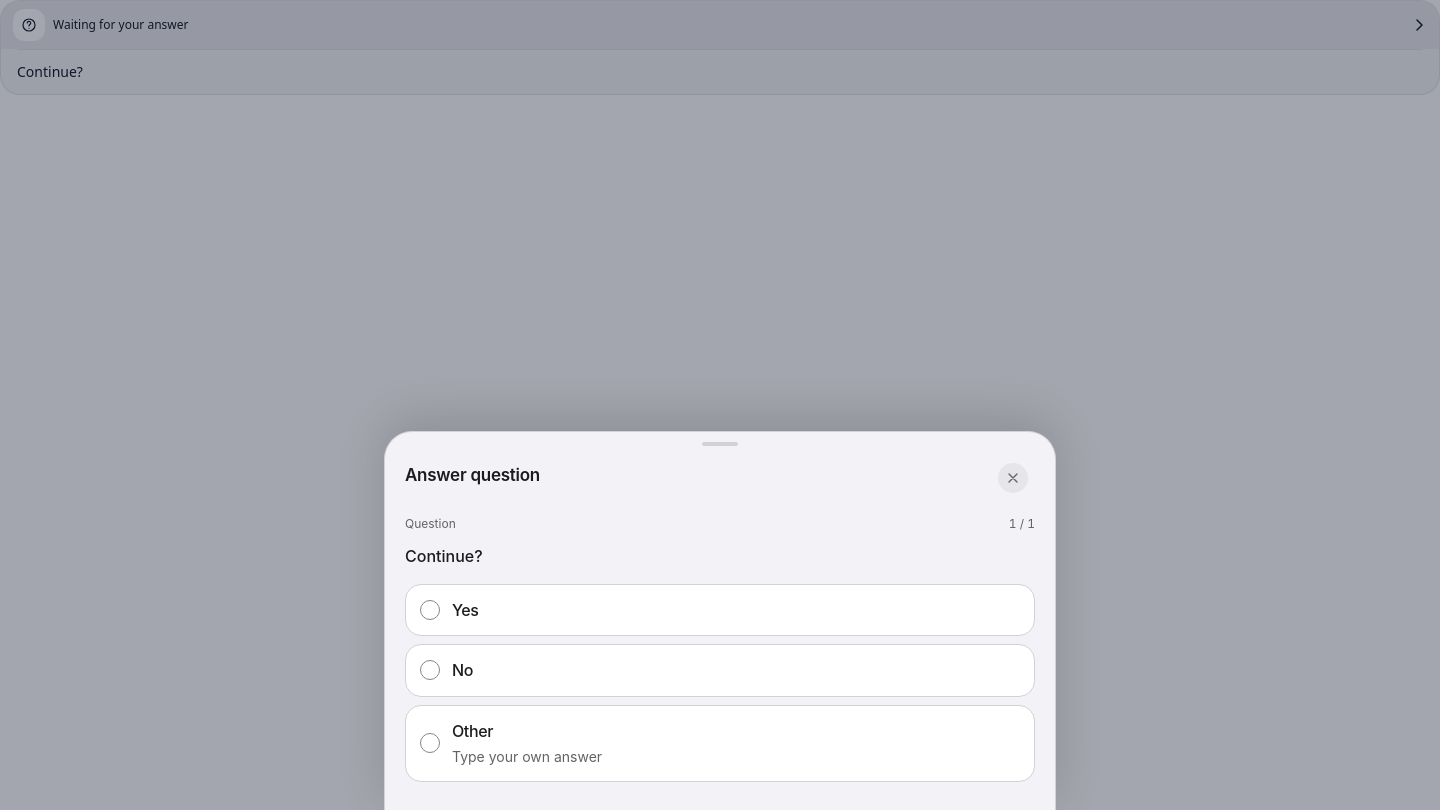
Test: native question recovery › retains a failed form instead of pretending the answer succeeded
Click the radio button labelled "Yes".
click(430, 610)  # box [405,584,1035,636]
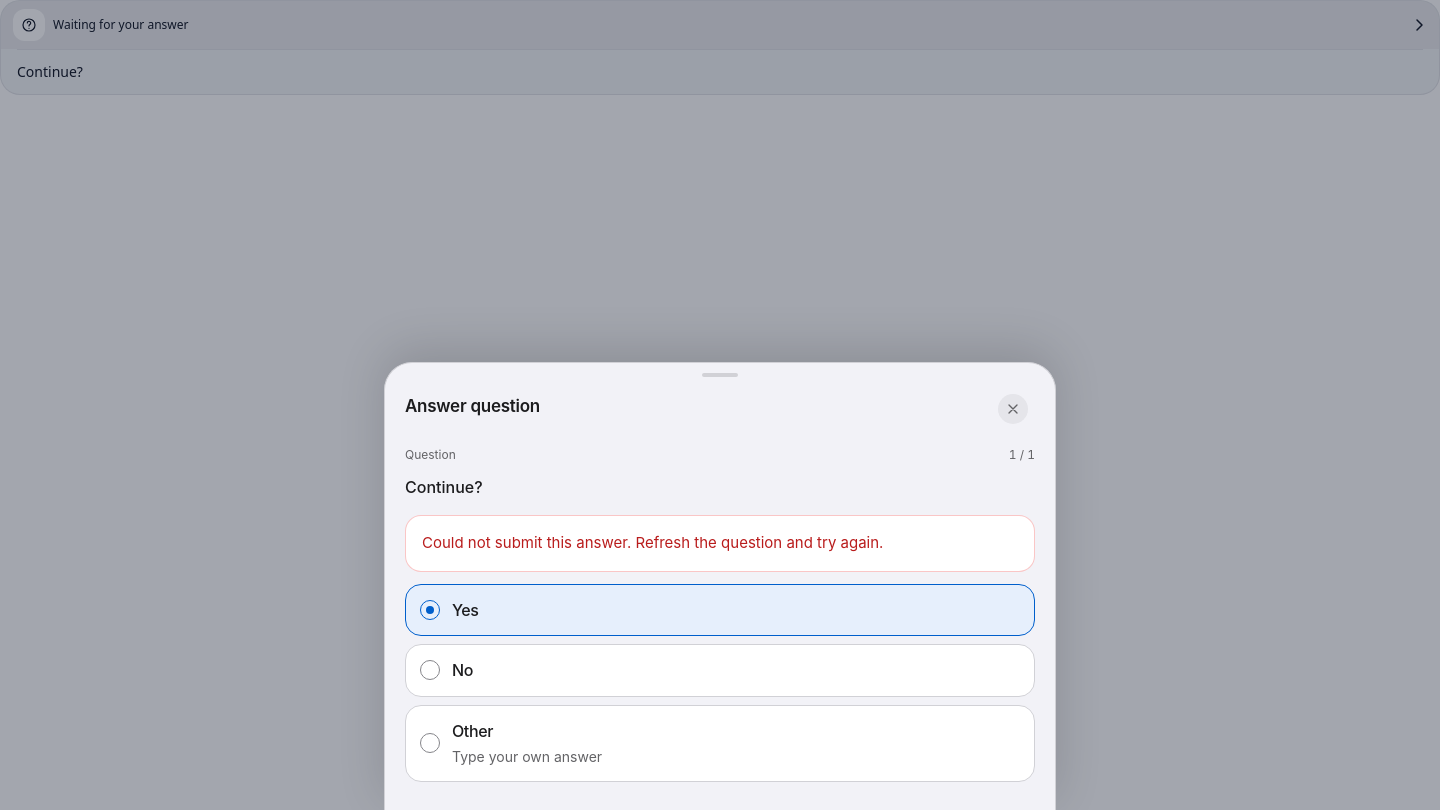
Expected: the dialog is shown, [384,362,1056,809]
Result: the text "Could not submit this answer. Refresh the question and try again." is shown at [405,515,1035,572]
